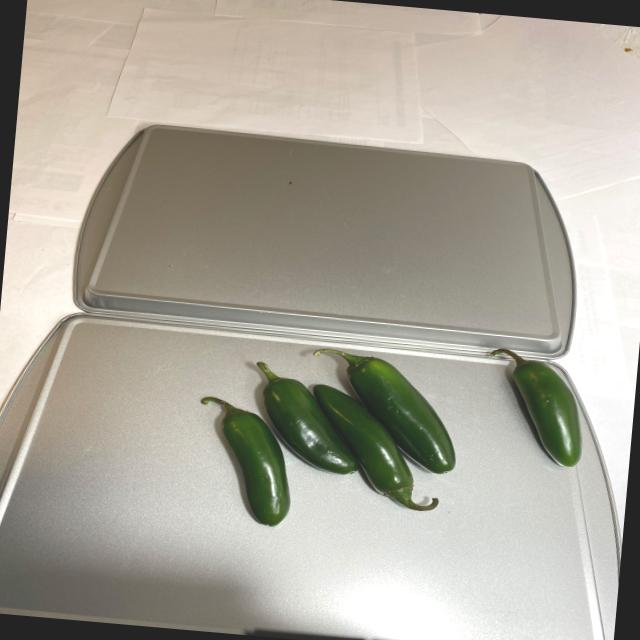chilli: (178, 317, 586, 557)
